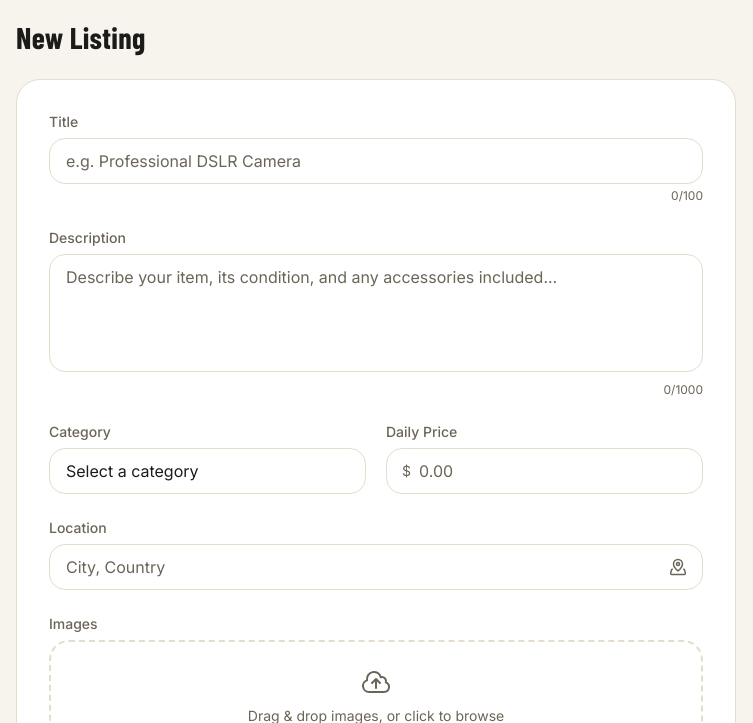
Test case: NewListingPage › shows validation error when title is too short
Note: Type a short title (min is 5)
Type "AB" into the field labelled "Title" at (376, 161), box x1=49 y1=138 x2=703 y2=184
(page scrolled)
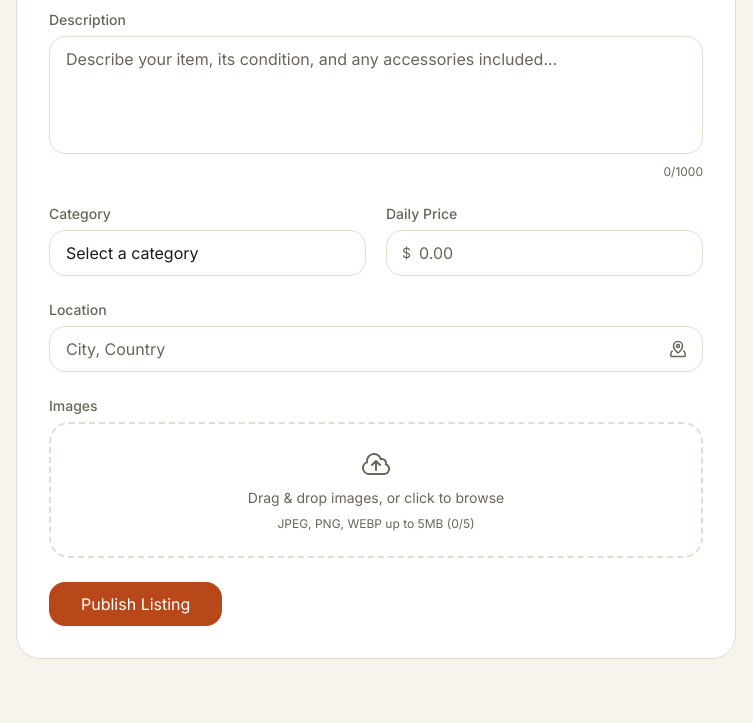
Click the button "Publish Listing" at (136, 604), box x1=49 y1=582 x2=222 y2=626
(page scrolled)
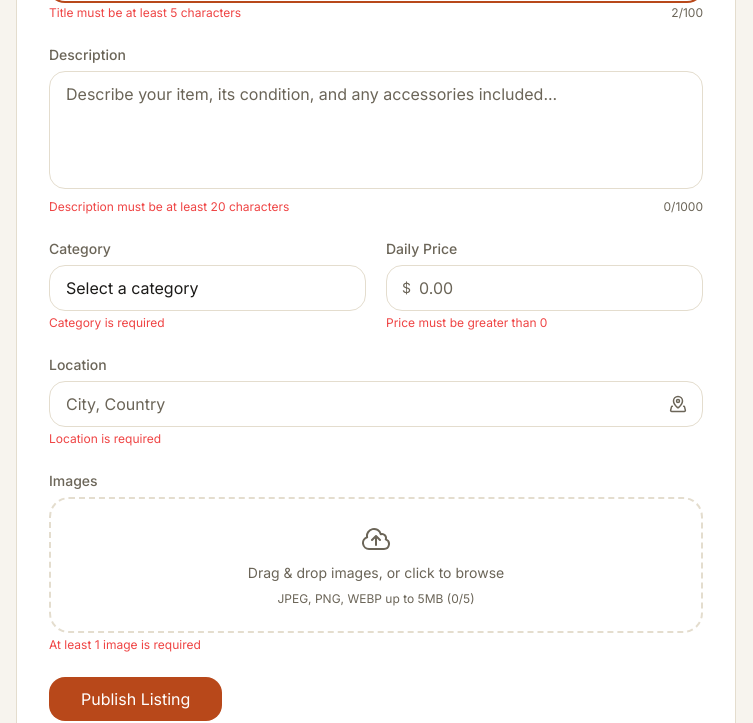
Check: the text "Title must be at least 5 characters" is shown, box x1=49 y1=5 x2=241 y2=21
